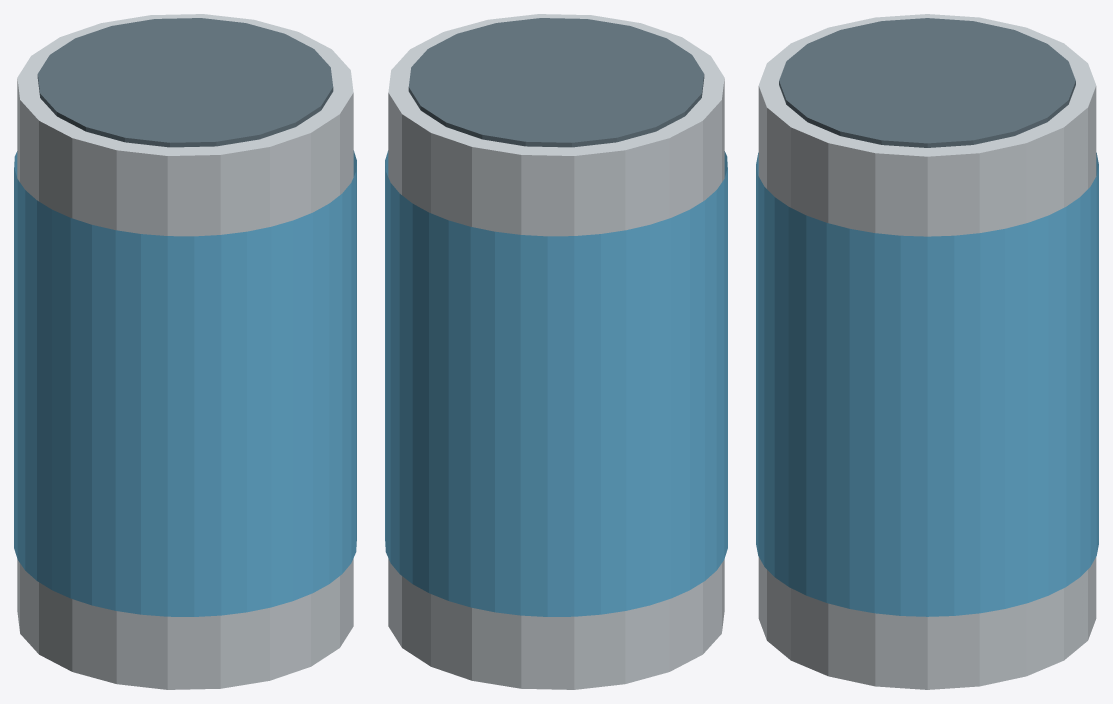
Rendered from lata.glb.
3 views of the same model, side by side, from view 1: azimuth 30°, elevation 25°; view 2: azimuth 150°, elevation 25°; view 3: azimuth 270°, elevation 25° (orthographic).
Size of the model in its own units: 0.067 by 0.116 by 0.067.
